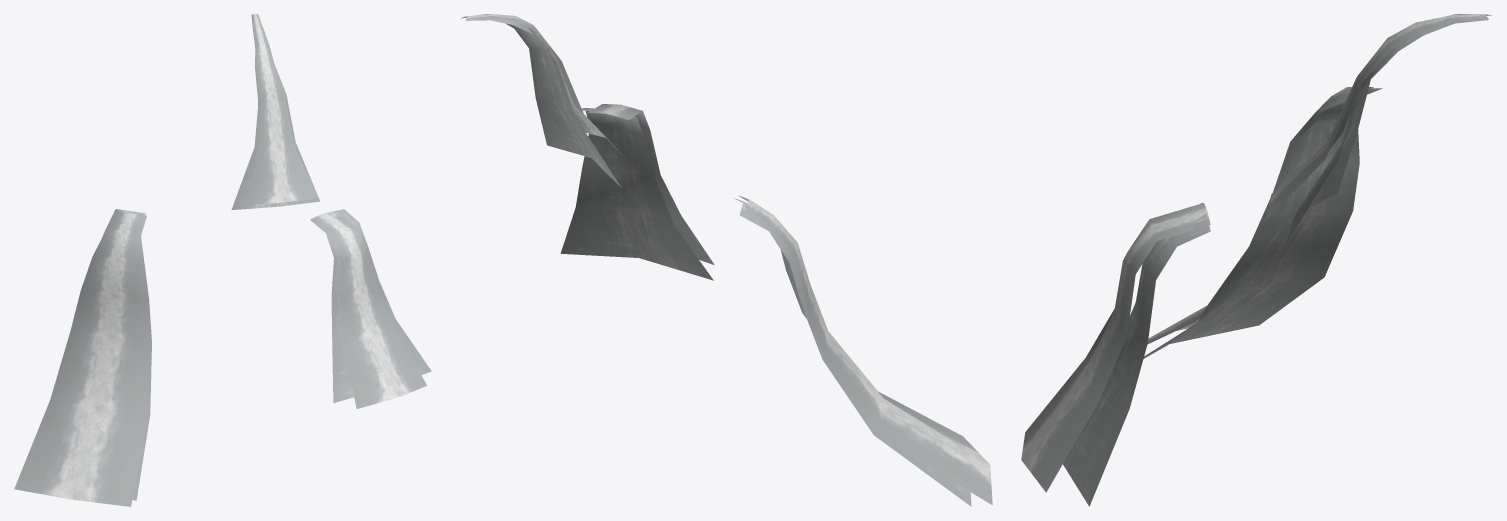
Rendered from OZ_28_mi_fall01A.glb.
3 renders of one model, left to right at view 1: azimuth 30°, elevation 25°; view 2: azimuth 150°, elevation 25°; view 3: azimuth 270°, elevation 25°, orthographic. The views are drawn at different scales.
Visible parts, largest first — view 1: OM_28_mi_fall01A; view 2: OM_28_mi_fall01A; view 3: OM_28_mi_fall01A.
Boxes of the visible parts, <box> form: OM_28_mi_fall01A: <box>14,14,431,506</box>; OM_28_mi_fall01A: <box>461,14,992,506</box>; OM_28_mi_fall01A: <box>1021,14,1492,506</box>.
Size of the model in its own units: 42.94 by 38 by 29.46.
Materials: 3 (3 with a texture image).
